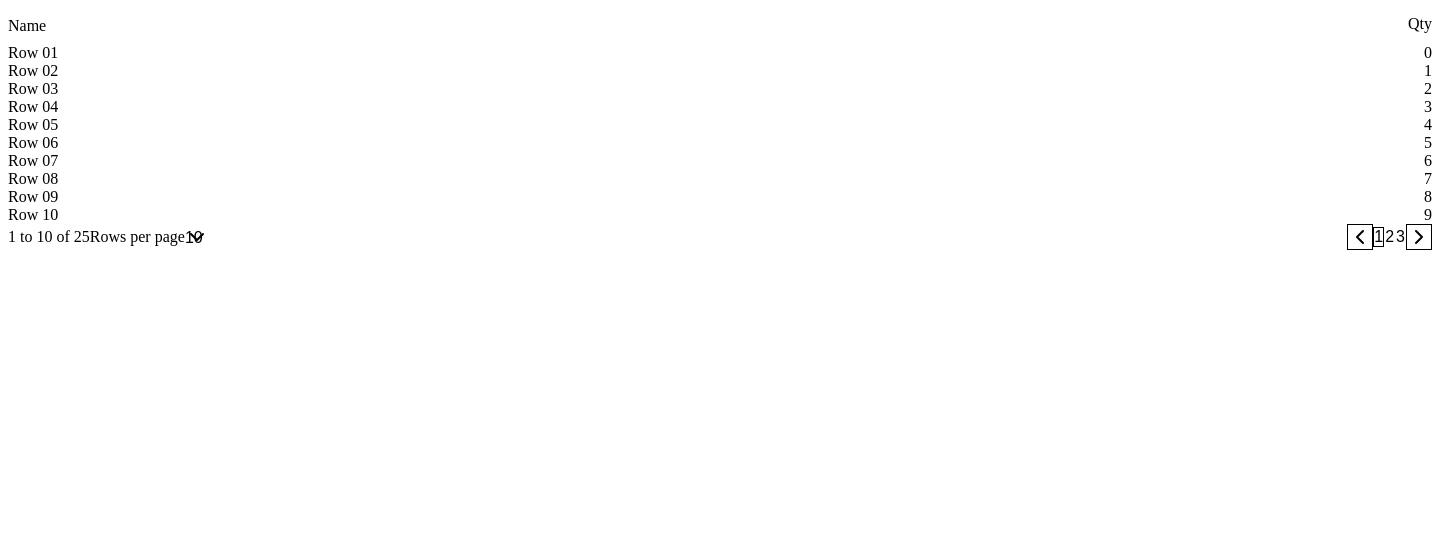
DataTable paging › goes back to the first page when the sort or the page size changes
Click the button named "Next page".
click(1419, 237)  # box [1406,224,1432,250]
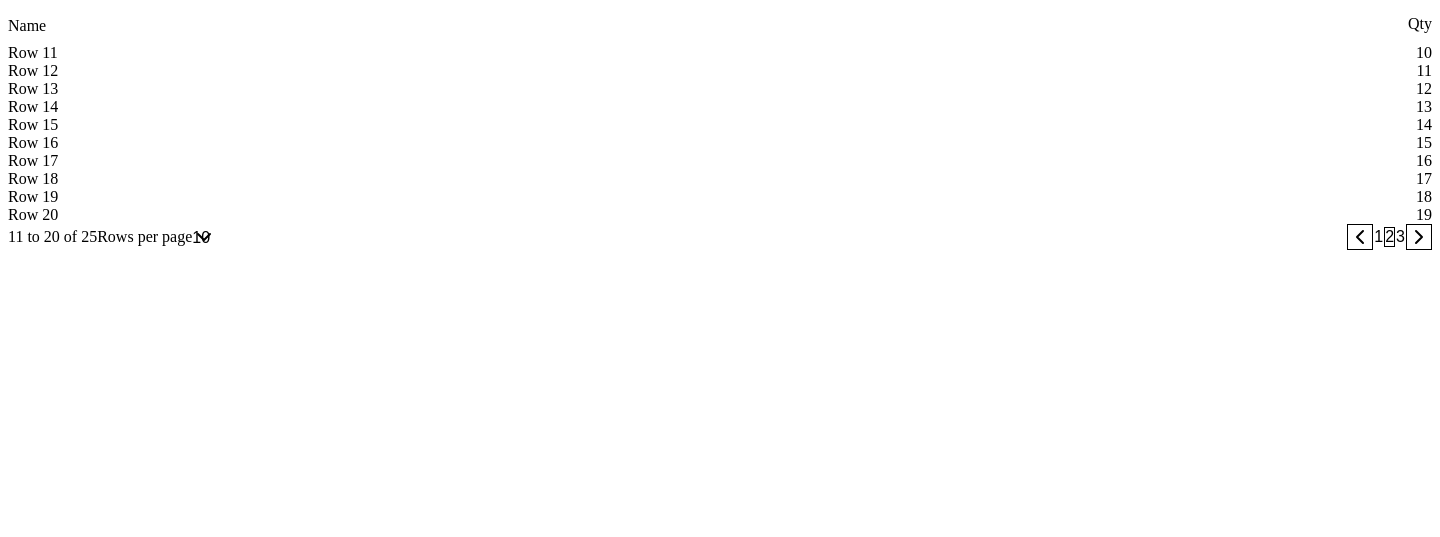
expect the cell "Row 11" is shown: met, box [8,44,812,62]
Click the button "Qty".
click(1408, 24)  # box [1384,12,1432,36]
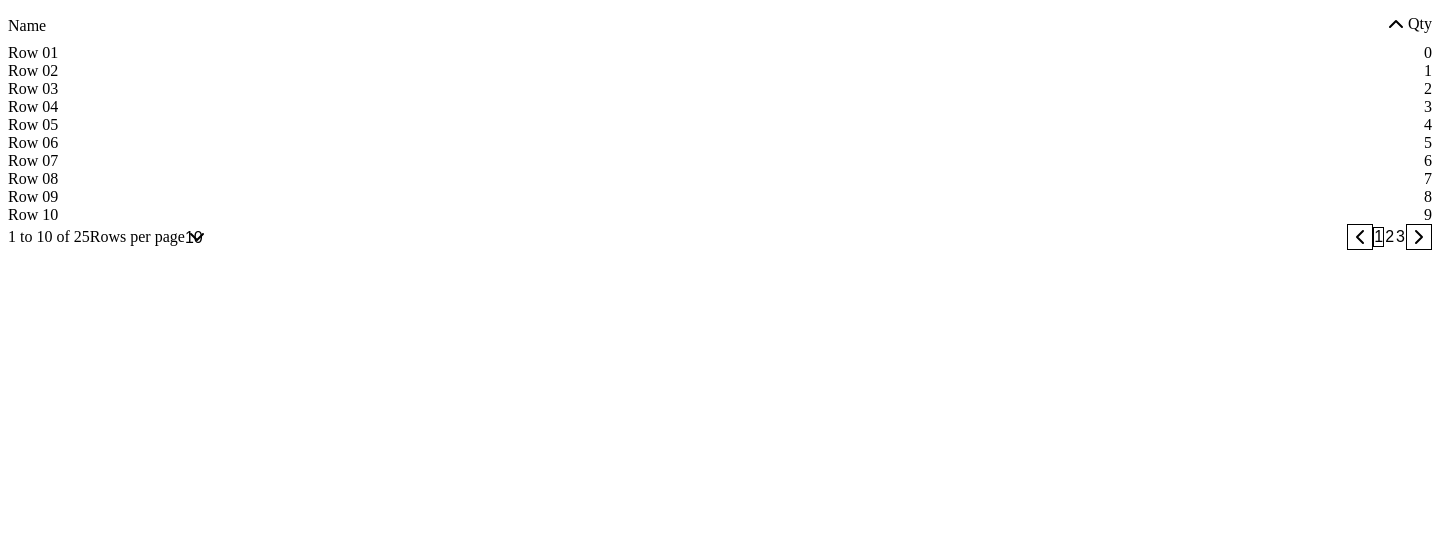
expect the cell "Row 01" is shown: met, box [8,44,812,62]
Click the button named "Next page".
click(1419, 237)  # box [1406,224,1432,250]
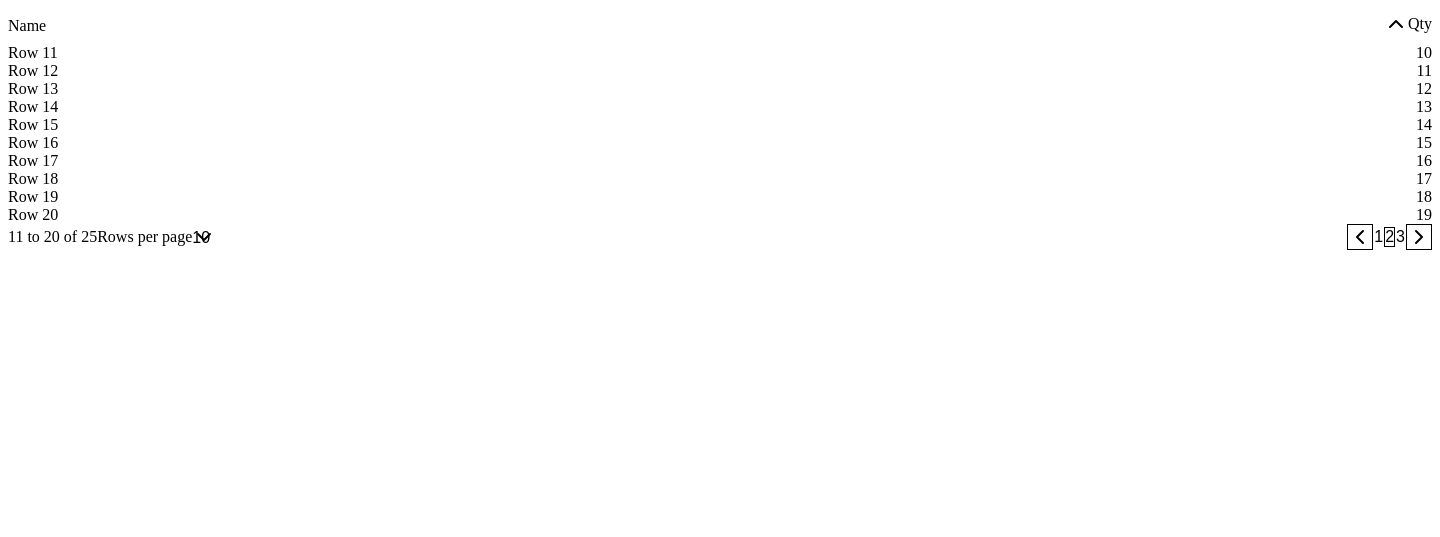
Select "25" in the dropdown labelled "Rows per page" at (224, 237), box [192,228,256,246]
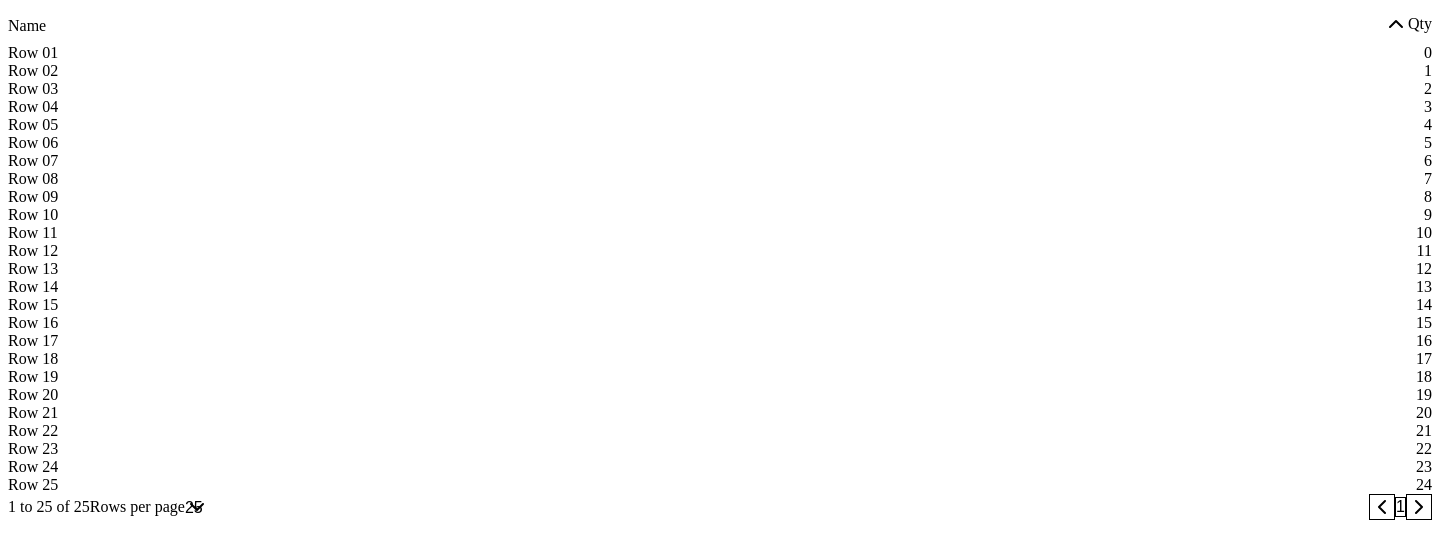
expect the button named "Next page" is disabled: met, box [1406,494,1432,520]
